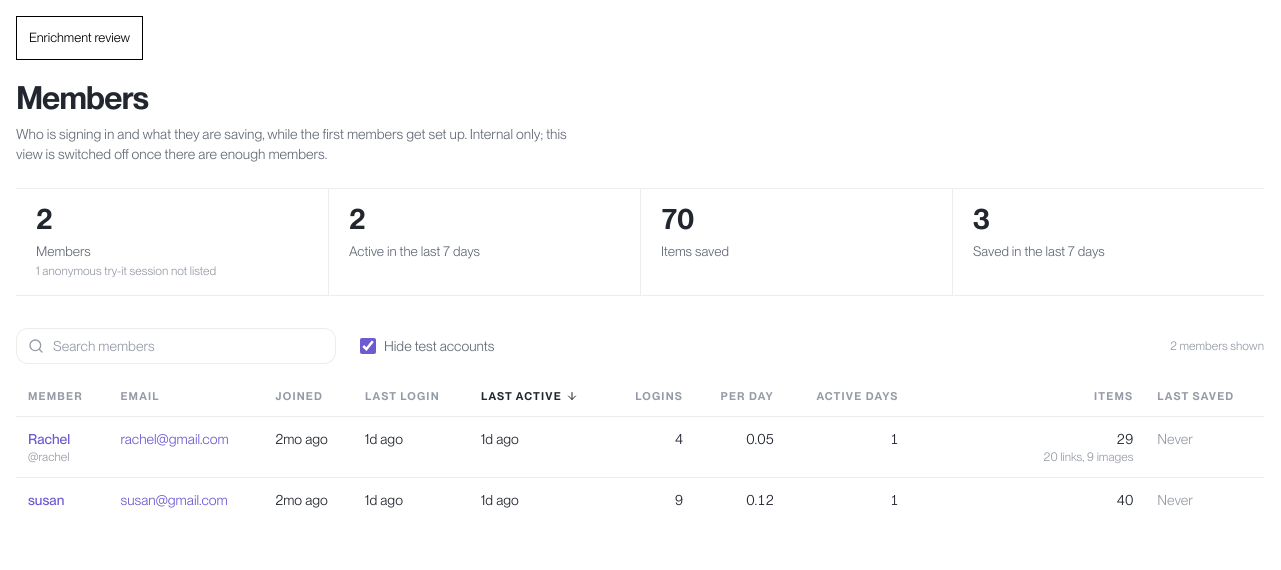
Admin members page › reveals test accounts on request and counts them in
Expected: the link "Rachel" is shown, x1=28 y1=431 x2=70 y2=447
Click the checkbox labelled "Hide test accounts".
click(368, 346)  # box x1=360 y1=338 x2=376 y2=354
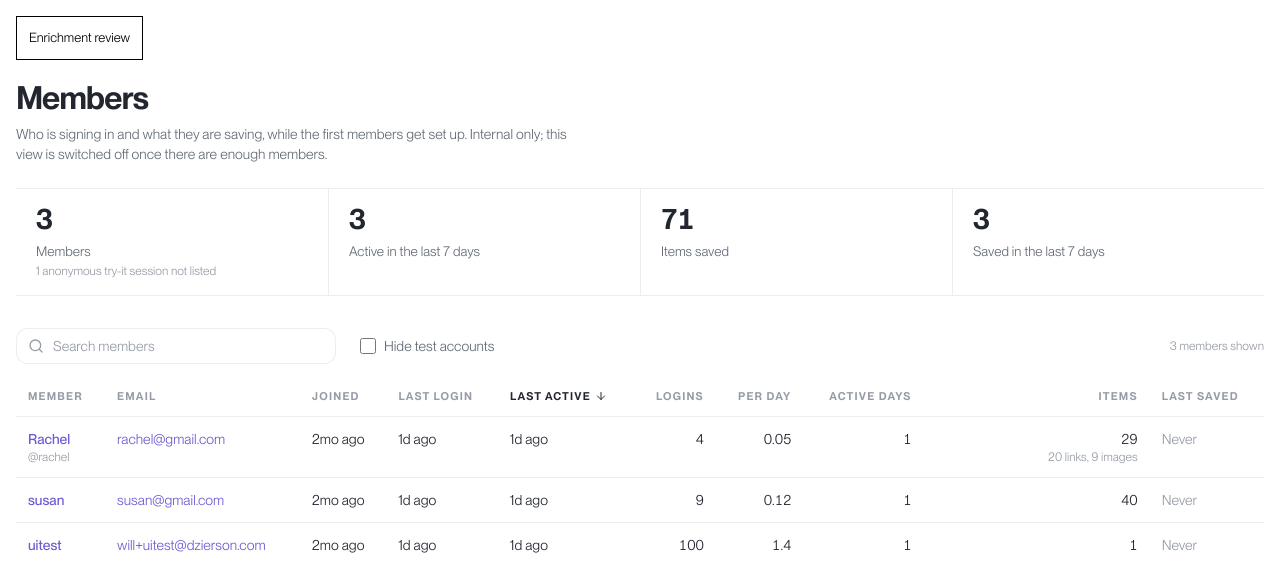
Result: the link "will+uitest@dzierson.com" is shown at x1=117 y1=537 x2=266 y2=553
Result: the text with test id "tile-members-value" reads "3" at x1=36 y1=202 x2=52 y2=236
